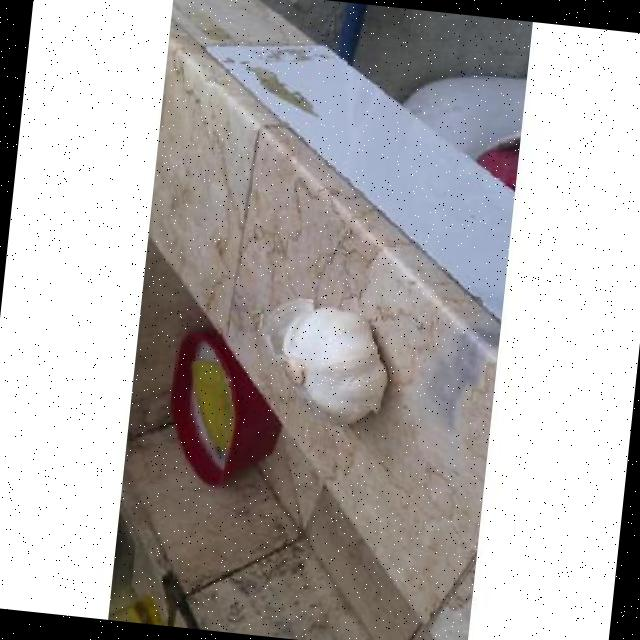garlic: (269, 298, 387, 422)
